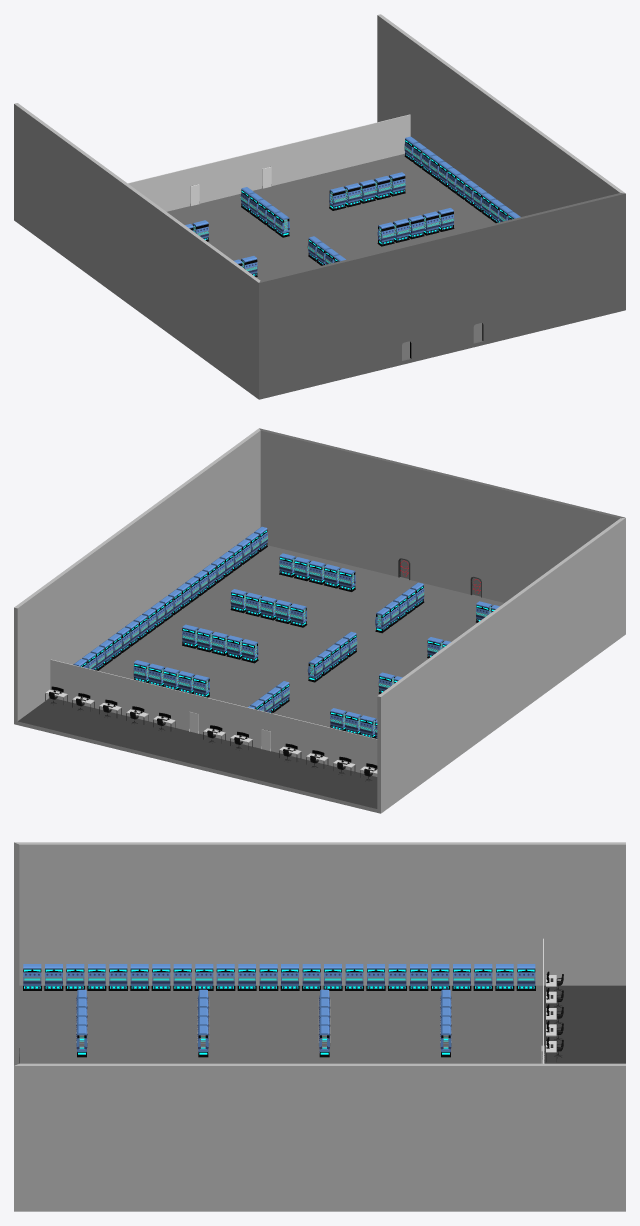
File: pokoj_serwerownia.fbx
3 views of the same model, one above another, from view 1: azimuth 30°, elevation 25°; view 2: azimuth 150°, elevation 25°; view 3: azimuth 270°, elevation 25° (orthographic). The views are drawn at different scales.
Parts seen in each view (by area): view 1: Pokoj.001, Cube.002, Cube.001, Cube.004; view 2: Pokoj.001, Cube.002, Cube.001, Cube.004, Plane; view 3: Pokoj.001, Cube.005, Cube.002, Plane.002.
Boxes of the visible parts, box(x1,y1,x2,y2) form: Pokoj.001: box(14, 14, 625, 399); Cube.002: box(185, 172, 454, 277); Cube.001: box(404, 136, 520, 222); Cube.004: box(240, 187, 345, 265); Pokoj.001: box(14, 428, 625, 813); Cube.002: box(133, 553, 499, 738); Cube.001: box(73, 526, 268, 670); Cube.004: box(248, 582, 424, 713); Plane: box(45, 689, 175, 731); Pokoj.001: box(14, 842, 625, 1211); Cube.005: box(23, 964, 535, 990); Cube.002: box(76, 989, 451, 1057); Plane.002: box(546, 975, 556, 1062).
Bounding box in the file's own units: 5100 × 1550 × 5900.
20 materials, 1 textured.
